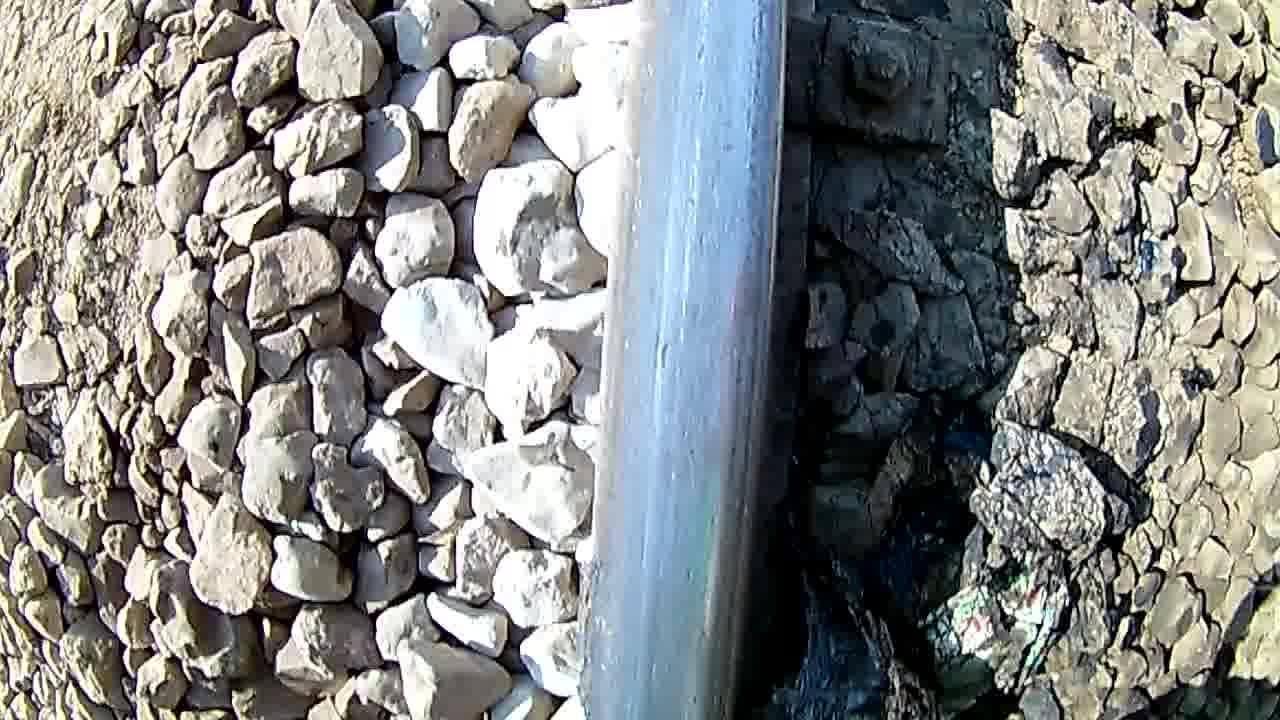crack: (600, 0, 789, 720)
